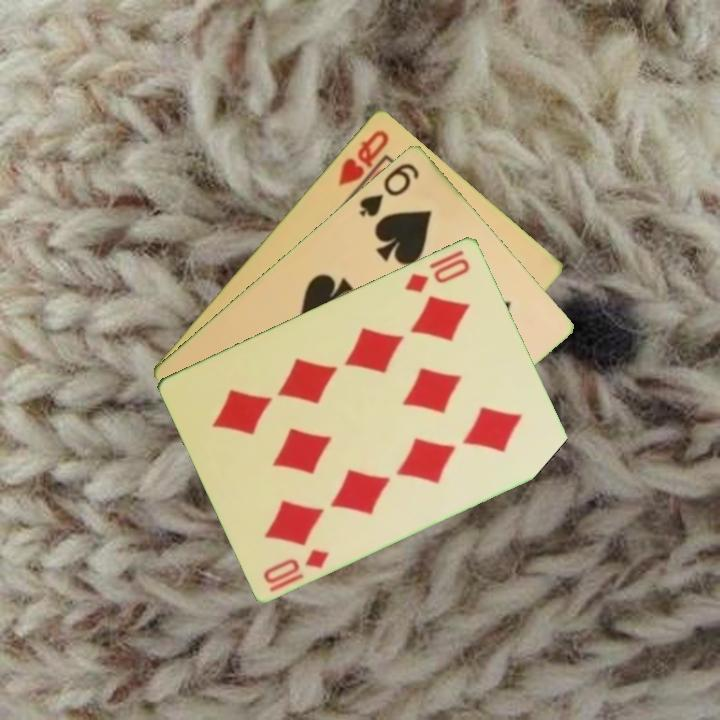10d: (259, 544, 333, 587), (401, 254, 474, 296)
6s: (355, 158, 422, 220)
Qh: (334, 125, 392, 189)
